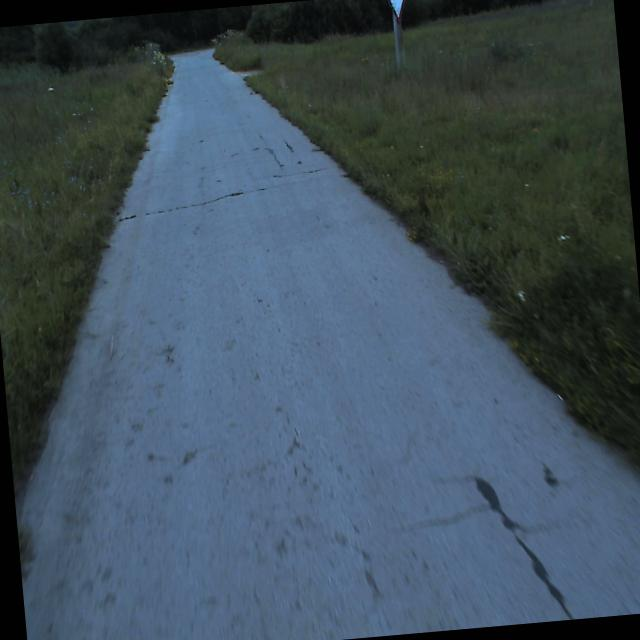road: (18, 47, 640, 640)
